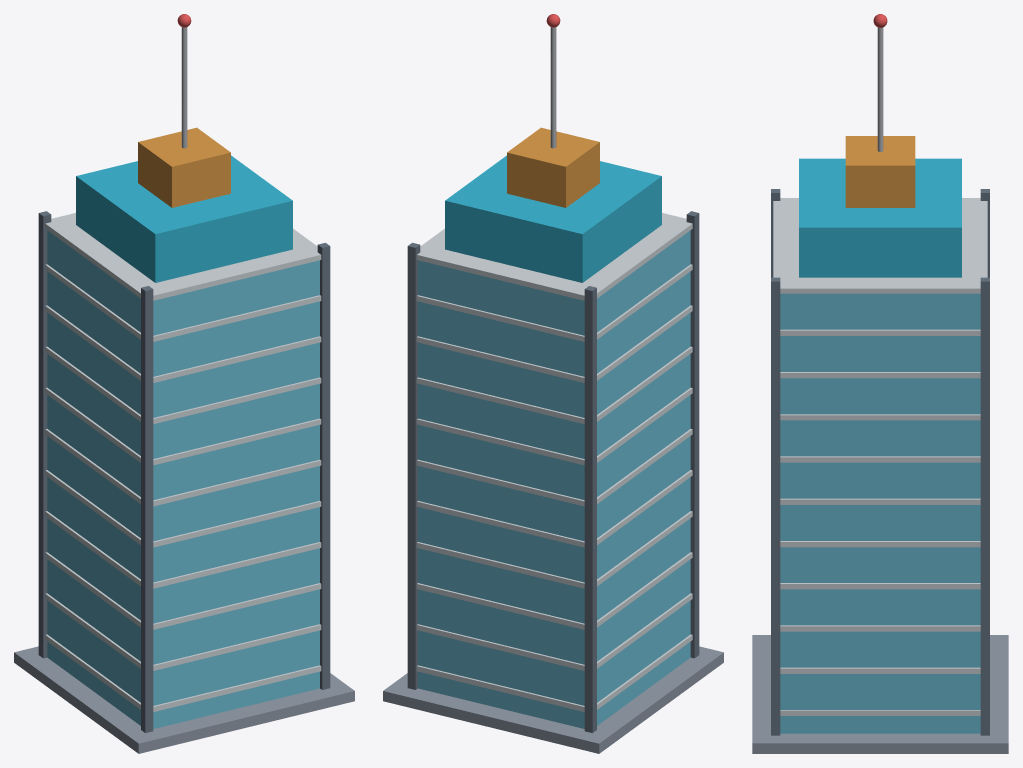
The model's file is tower_building.glb.
3 renders of one model, left to right at view 1: azimuth 30°, elevation 25°; view 2: azimuth 150°, elevation 25°; view 3: azimuth 270°, elevation 25°, orthographic. The views are drawn at different scales.
Size of the model in its own units: 22 by 64.9 by 22.
